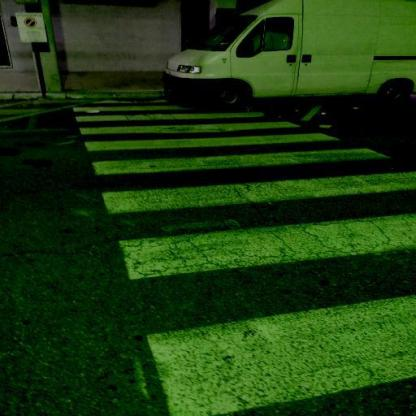crosswalk: (80, 131, 396, 181)
